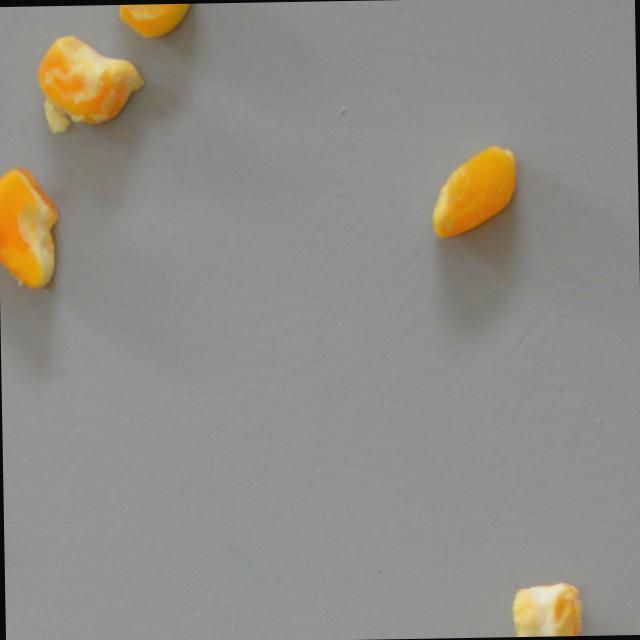dañado: (0, 162, 66, 294)
pelicula: (23, 33, 144, 136), (431, 142, 517, 243), (507, 579, 592, 637), (108, 2, 196, 40)
